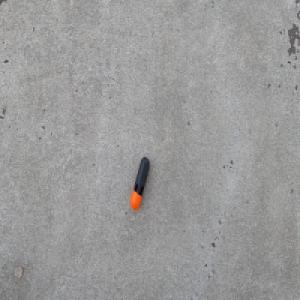PlasticPart: (129, 156, 149, 211)
